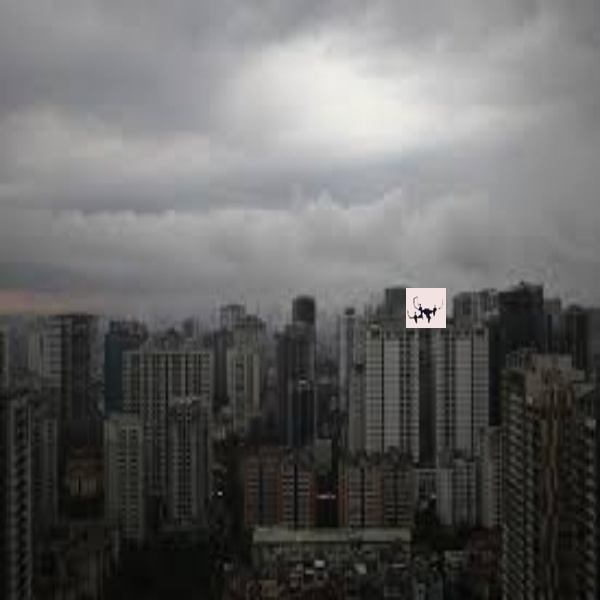drone: (403, 285, 444, 328)
